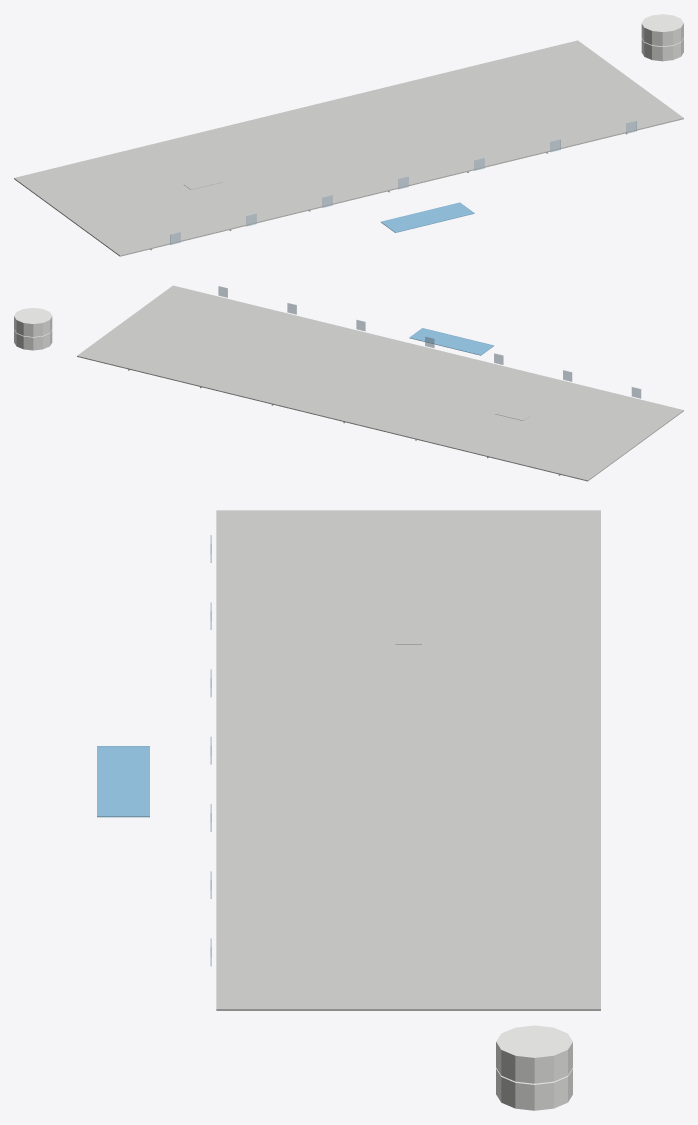
Rendered from ground.glb.
The picture shows the model from 3 angles, top to bottom: view 1: azimuth 30°, elevation 25°; view 2: azimuth 150°, elevation 25°; view 3: azimuth 270°, elevation 25°; orthographic projection. The views are drawn at different scales.
Visible parts, largest first — view 1: concrete, tower, water, glass; view 2: concrete, tower, water, glass; view 3: concrete, tower, water.
Boxes of the visible parts, x1,y1,x2,y2 form: concrete: (14,40,683,256); tower: (641,14,683,61); water: (381,202,474,232); glass: (170,121,636,244); concrete: (77,285,683,481); tower: (14,308,52,350); water: (409,328,494,355); glass: (218,286,641,398); concrete: (216,510,600,1010); tower: (496,1025,572,1110); water: (97,746,149,817).
Size of the model in its own units: 205 by 8.87 by 76.
